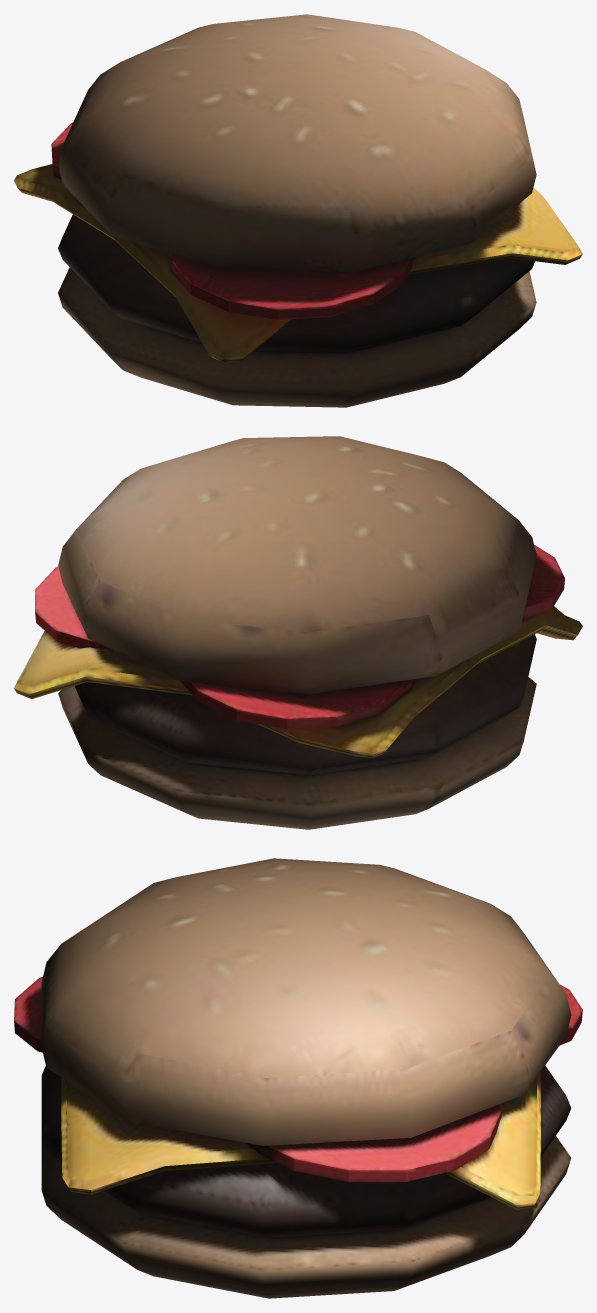
Rendered from burger.fbx.
3 renders of one model, top to bottom at view 1: azimuth 30°, elevation 25°; view 2: azimuth 150°, elevation 25°; view 3: azimuth 270°, elevation 25°, orthographic. The views are drawn at different scales.
Visible parts, largest first — view 1: Cube; view 2: Cube; view 3: Cube.
Boxes of the visible parts, x1=… form: Cube: x1=14, y1=14, x2=582, y2=407; Cube: x1=14, y1=436, x2=582, y2=829; Cube: x1=14, y1=858, x2=582, y2=1298.
Size of the model in its own units: 205 by 122 by 210.
1 material, 1 textured.
